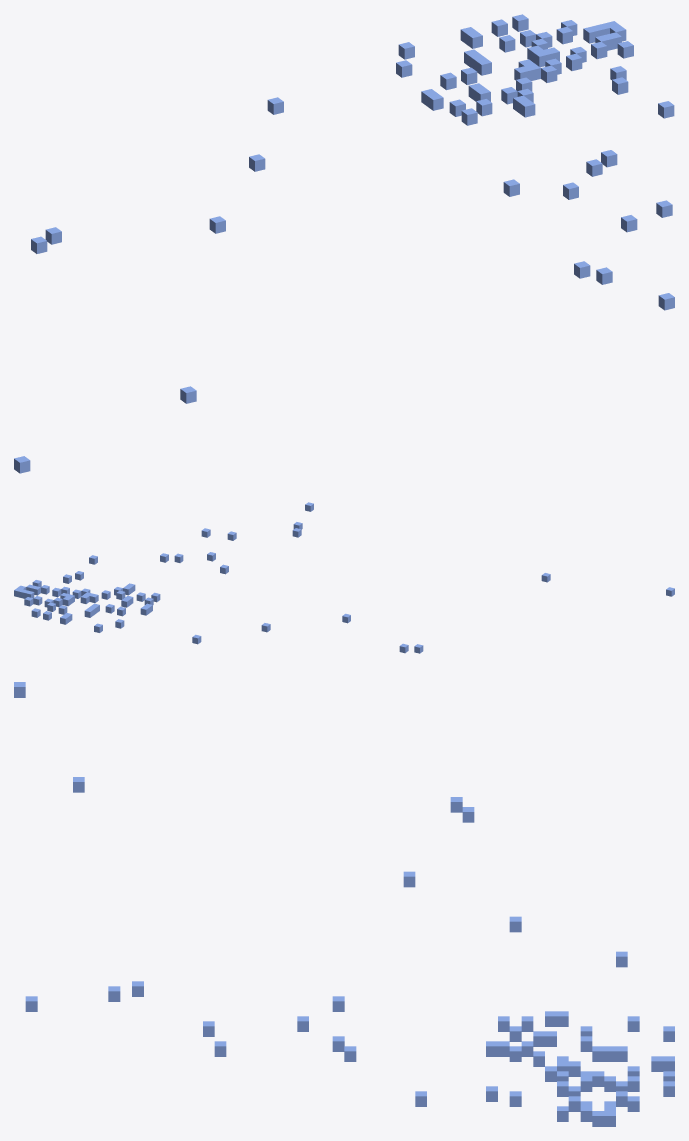
Rendered from map.glb.
The picture shows the model from 3 angles, top to bottom: view 1: azimuth 30°, elevation 25°; view 2: azimuth 150°, elevation 25°; view 3: azimuth 270°, elevation 25°; orthographic projection. The views are drawn at different scales.
Size of the model in its own units: 87 by 1 by 56.
